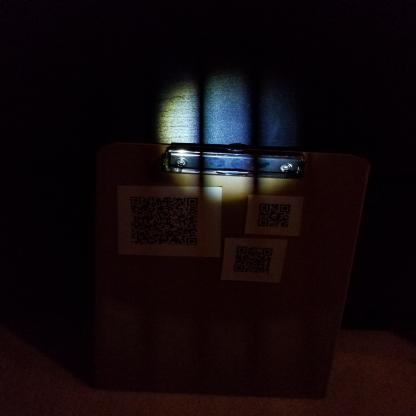qr: (127, 191, 204, 248), (232, 243, 275, 276), (257, 200, 294, 229)
